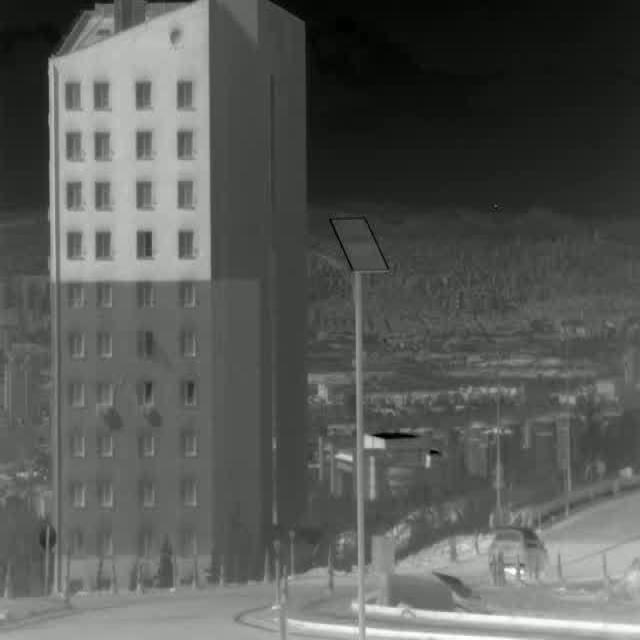Car: (486, 524, 550, 576)
